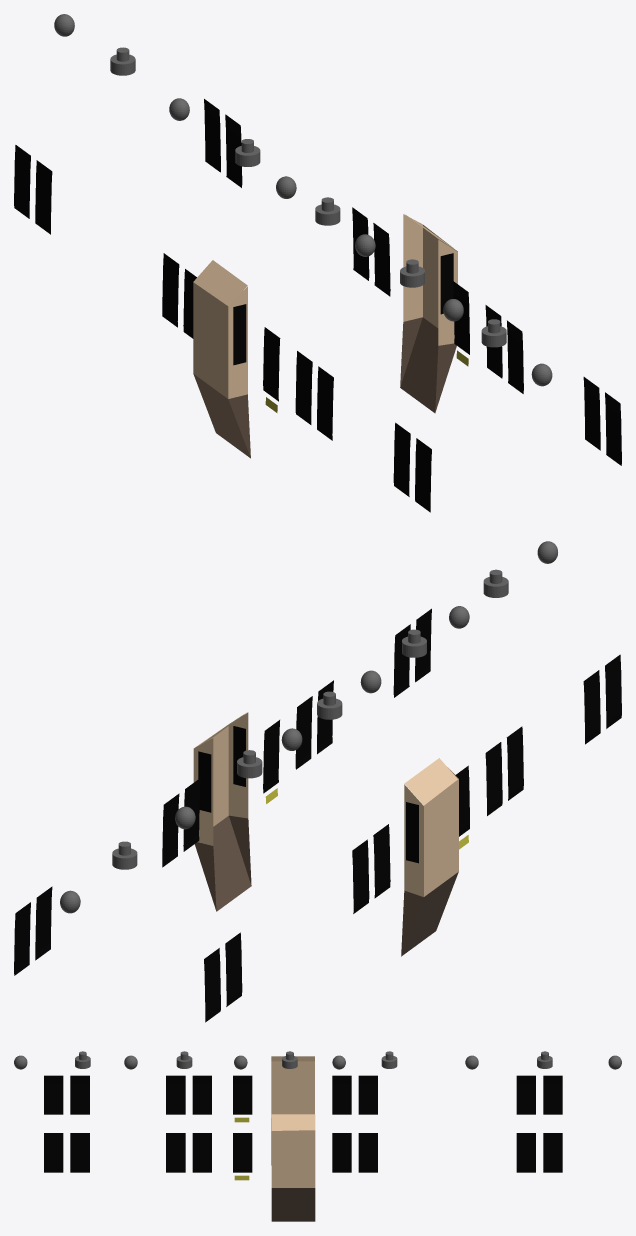
File: fruit-and-parcels.dae
3 views of the same model, one above another, from view 1: azimuth 30°, elevation 25°; view 2: azimuth 150°, elevation 25°; view 3: azimuth 270°, elevation 25° (orthographic). The views are drawn at different scales.
Visible parts, largest first — view 1: Plane_123_001_004, Plane_123_001_005, Plane_526, Plane_494, Plane_513, Plane_542, Plane_545, Plane_559, Plane_510, Plane_529, Plane_543, Plane_528 (+9 smaller); view 2: Plane_123_001_004, Plane_123_001_005, Plane_497, Plane_526, Plane_542, Plane_513, Plane_529, Plane_494, Plane_510, Plane_545, Plane_512, Plane_511 (+9 smaller); view 3: Plane_123_001_005, Plane_123_001_004, Plane_495, Plane_496, Plane_497, Plane_510, Plane_511, Plane_512, Plane_527, Plane_528, Plane_529, Plane_542 (+8 smaller).
Boxes of the visible parts, x1,y1,x2,y2 form: Plane_123_001_004: (193,260,250,458); Plane_123_001_005: (400,214,457,413); Plane_526: (295,351,312,424); Plane_494: (162,253,179,327); Plane_513: (35,160,52,234); Plane_542: (393,422,410,496); Plane_545: (415,438,431,512); Plane_559: (263,327,280,401); Plane_510: (14,145,30,218); Plane_529: (317,366,333,440); Plane_543: (583,377,600,450); Plane_528: (507,320,523,393); Plane_123_001_004: (401,758,458,956); Plane_123_001_005: (193,712,251,911); Plane_497: (373,824,390,898); Plane_526: (485,742,502,815); Plane_542: (583,670,600,744); Plane_513: (225,932,242,1006); Plane_529: (506,726,523,800); Plane_494: (352,839,369,913); Plane_510: (204,948,220,1022); Plane_545: (605,654,621,728); Plane_512: (35,886,52,960); Plane_511: (14,902,30,975); Plane_123_001_005: (271,1114,315,1221); Plane_123_001_004: (271,1056,314,1165); Plane_495: (358,1133,377,1172); Plane_496: (332,1133,351,1172); Plane_497: (332,1075,351,1114); Plane_510: (543,1075,562,1114); Plane_511: (543,1133,562,1172); Plane_512: (516,1133,535,1172); Plane_527: (192,1133,211,1172); Plane_528: (166,1133,185,1172); Plane_529: (166,1075,185,1114); Plane_542: (70,1075,89,1114).
Bounding box in the file's own units: 2.11 × 7.77 × 1.98.
